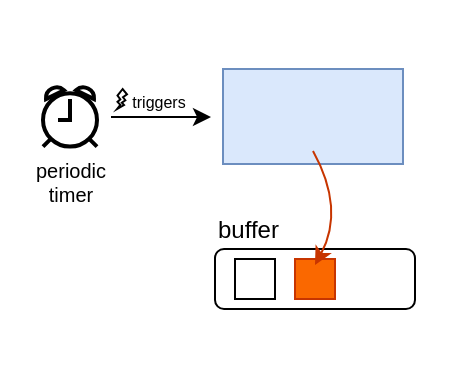
The diagram is 450 pixels wide and 374 high, and some of its shapes have lost their labels. The shapes that lost their labels are listed below. From the top down, each one's box as (x1, y1, x2, y2) in pixels, then its label:
(221, 67, 403, 164): Source
(293, 257, 335, 299): measurements
